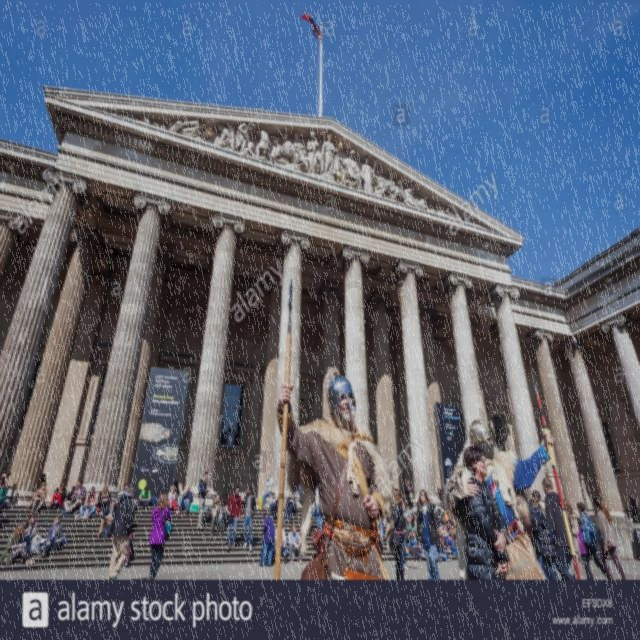pessoa: (116, 116, 463, 229), (276, 370, 394, 580), (442, 417, 554, 580), (462, 444, 512, 581), (541, 476, 577, 581), (105, 484, 136, 588), (592, 495, 626, 580), (576, 502, 612, 580), (528, 497, 560, 580), (146, 490, 174, 580), (415, 488, 442, 580), (388, 488, 406, 580), (560, 498, 580, 580), (572, 517, 596, 582), (220, 483, 242, 550), (240, 484, 256, 553), (40, 514, 64, 560), (258, 510, 276, 568), (61, 476, 87, 516), (95, 497, 118, 540), (195, 469, 210, 530), (23, 479, 48, 514), (21, 510, 38, 558), (77, 486, 98, 521), (399, 497, 409, 570), (312, 478, 324, 534), (206, 492, 223, 530), (438, 520, 458, 552), (288, 524, 304, 564), (48, 482, 68, 512), (273, 526, 288, 564), (209, 500, 224, 538), (178, 482, 194, 516), (97, 482, 112, 512), (272, 498, 288, 526), (262, 472, 274, 509), (122, 531, 134, 568), (284, 489, 298, 519), (167, 483, 180, 515), (434, 539, 452, 562), (0, 475, 10, 515), (530, 488, 544, 516), (627, 495, 640, 525), (136, 485, 152, 508), (66, 483, 80, 508), (406, 529, 418, 557), (298, 473, 308, 506), (301, 512, 312, 538), (405, 478, 413, 511), (223, 493, 232, 521), (267, 490, 277, 514), (96, 489, 109, 507), (404, 498, 412, 526), (310, 494, 316, 522), (442, 507, 452, 523), (404, 498, 412, 518), (408, 516, 417, 532), (120, 481, 132, 493), (449, 520, 457, 538), (435, 508, 442, 528), (412, 513, 418, 529), (429, 498, 436, 509), (383, 512, 387, 526), (422, 548, 426, 558)
